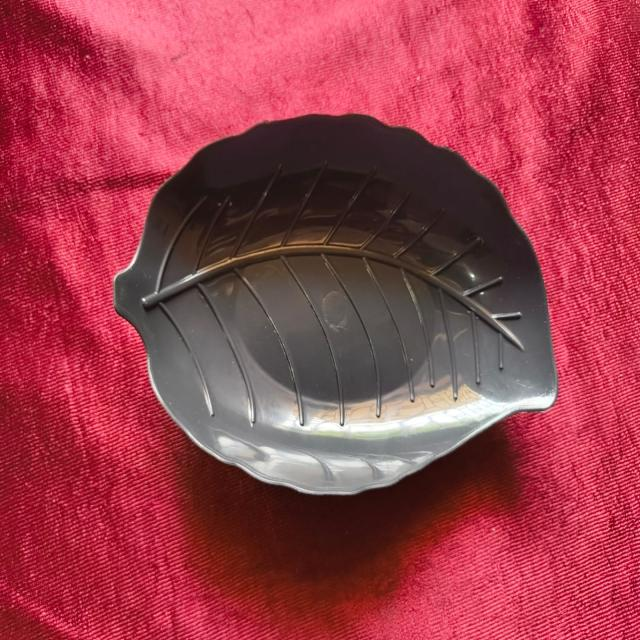pen: (115, 103, 572, 496)
